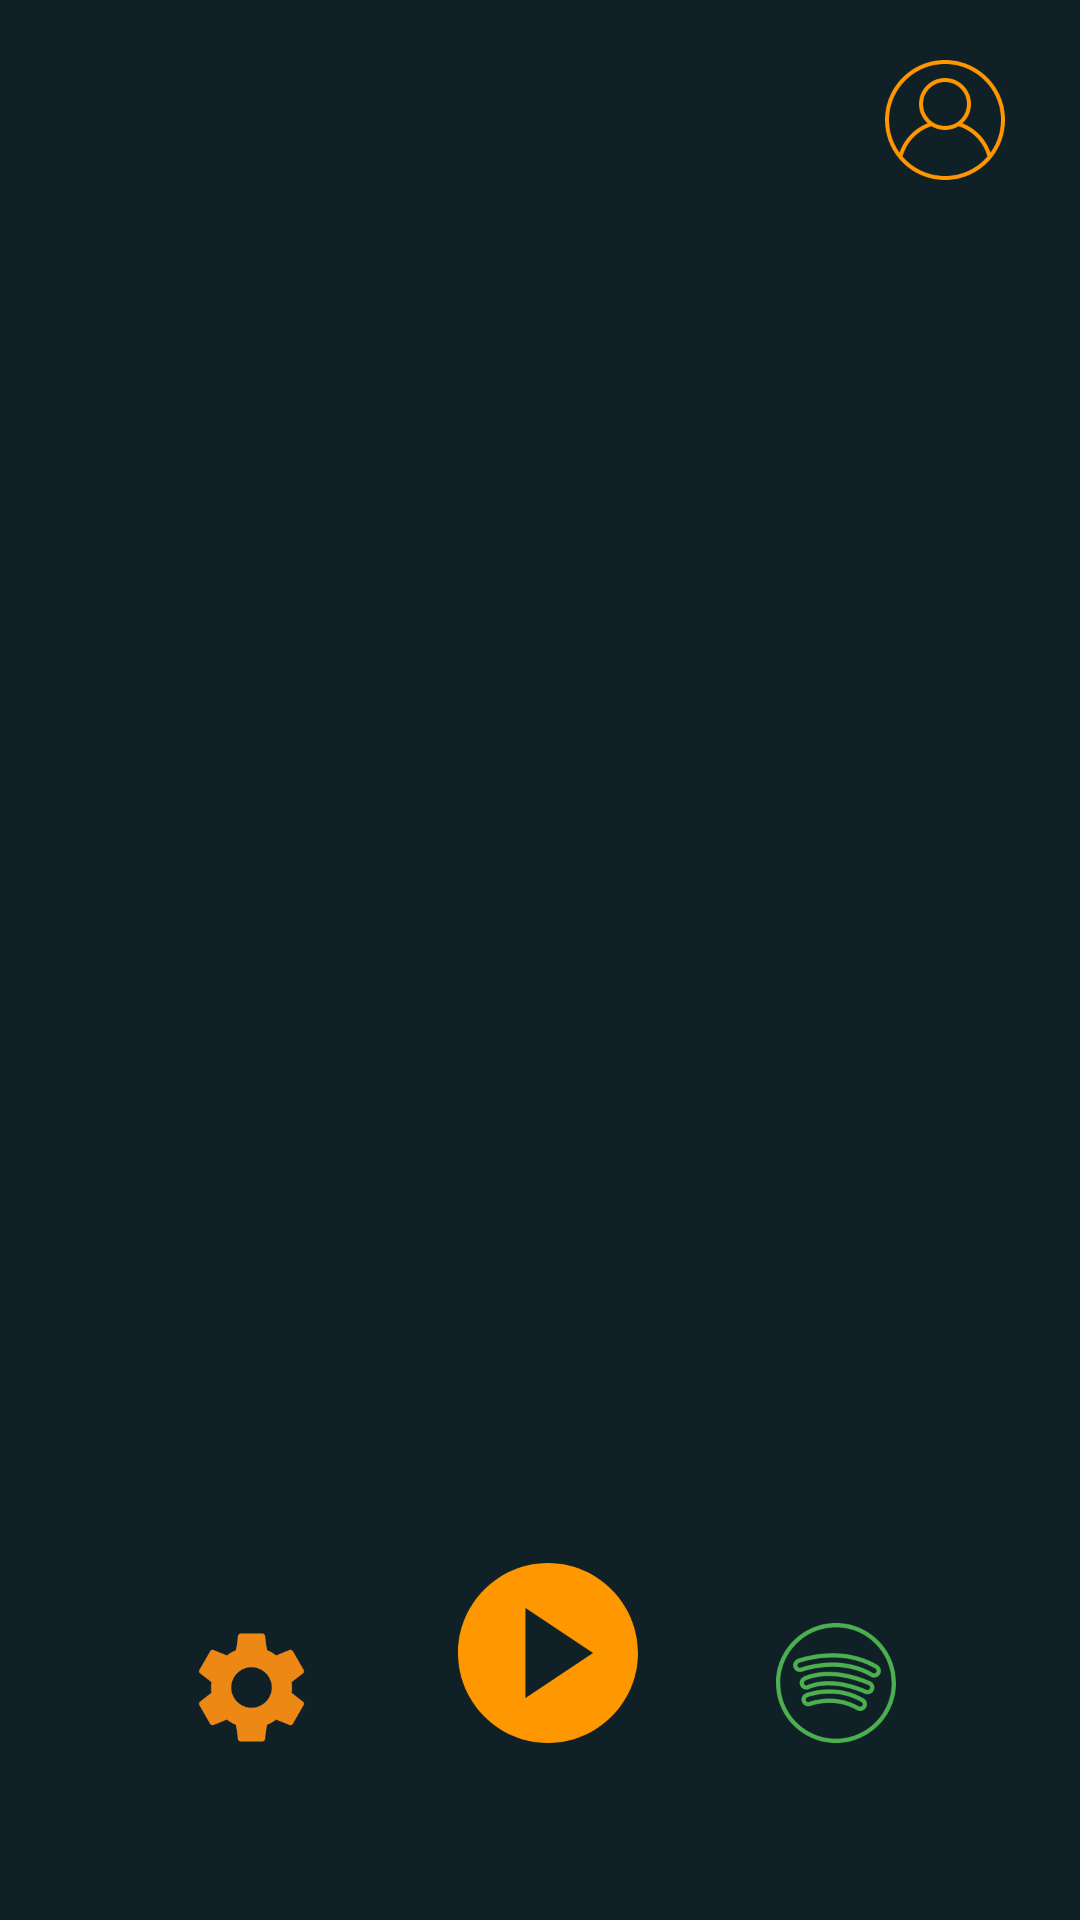

Icons on this 1080 × 1920 Android screen, each with its box as (x1,y1,x2,y2):
play: (458,1563,638,1743)
settings: (199,1633,304,1742)
user: (885,60,1005,180)
